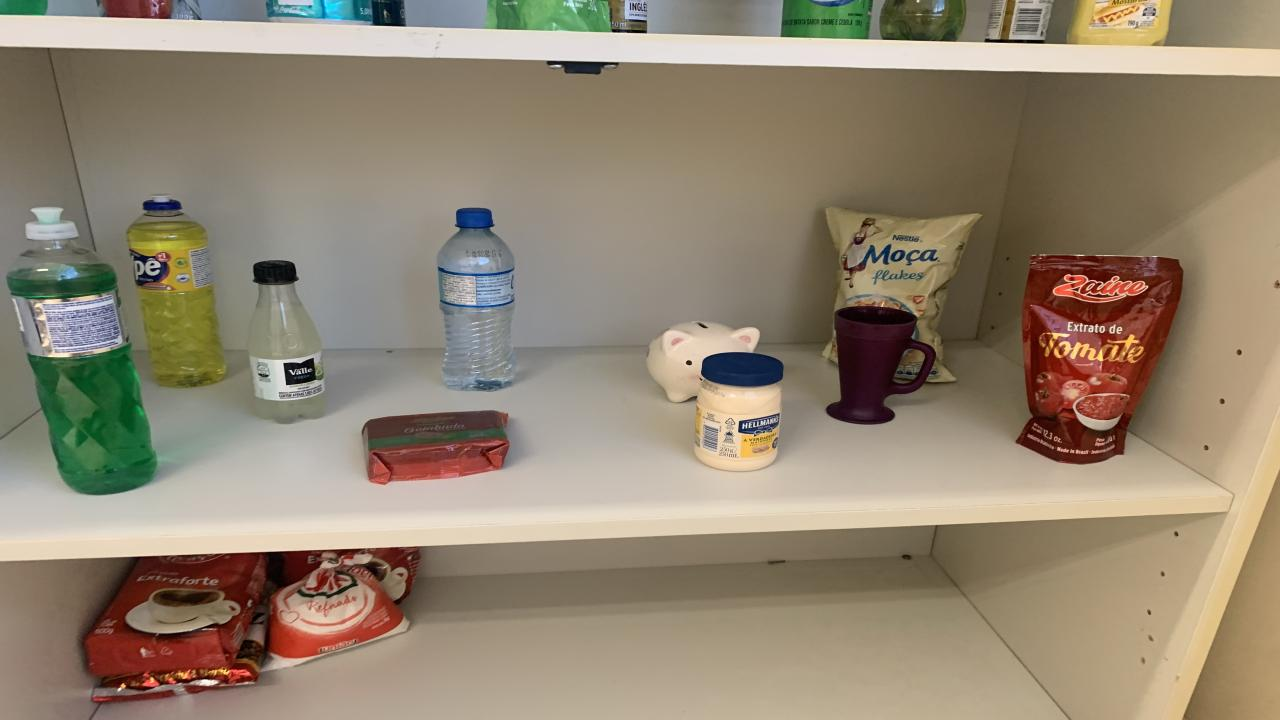Detergent-Cleanup_Items: (8, 208, 158, 495), (128, 195, 225, 388)
English_Sauce-Pantry_Items: (985, 0, 1052, 43), (608, 0, 648, 34)
Flakes-Snacks: (825, 206, 980, 382)
Guarana-Drinks: (880, 0, 965, 41)
Guarana_Can-Drinks: (370, 0, 405, 26)
Guava-Snacks: (362, 411, 510, 484)
Mayonnaise-Pantry_Items: (695, 352, 782, 471)
Mustard-Pantry_Items: (1068, 0, 1172, 45)
Pig_Safe-Miscellaneous: (648, 322, 760, 403)
Pringles-Snacks: (780, 0, 872, 39)
Soda-Drinks: (248, 261, 328, 424)
Tea-Drinks: (265, 0, 375, 24)
Tomato_Sauce-Pantry_Items: (1018, 255, 1182, 463), (485, 0, 610, 32), (100, 0, 200, 19)
Water_Bottle-Drinks: (438, 227, 515, 390)
